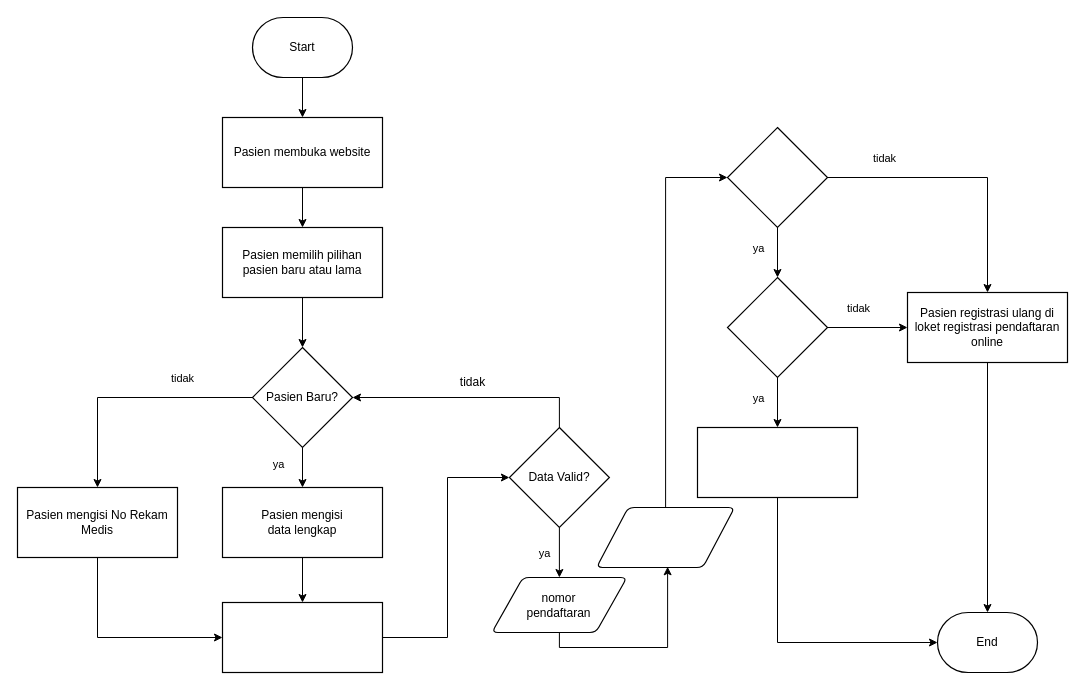
Some shapes in this 1086 by 691 pixel diagram are drawn without their labels. Each missing label, with the centre of its shape:
"detail pendaftaran" goes at (665,537).
"Pasien Lama?" goes at (777,177).
"Pasien mengisi No Whatsapp, pilihan hari dan waktu kontrol dan dokter." goes at (302,637).
"Pasien registrasi ulang di mesin APM" goes at (777,462).
"Punya BPJS?" goes at (777,327).
